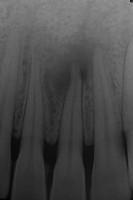Furcation Involvement: (43, 23, 99, 96)
